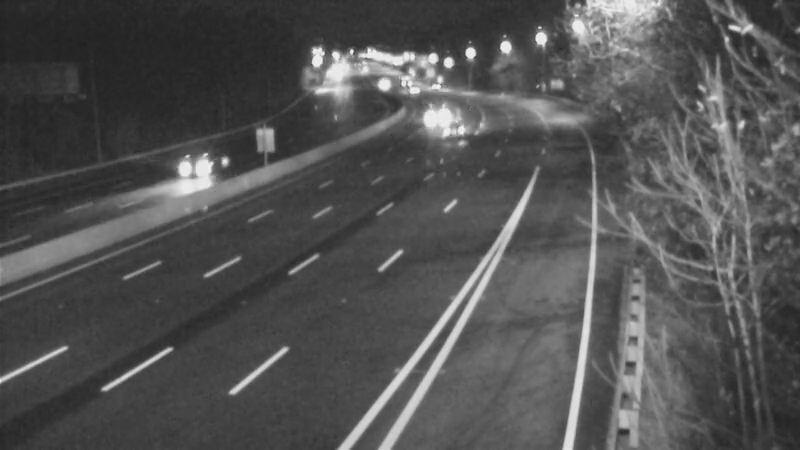vehicle: (166, 129, 246, 209), (408, 64, 458, 114), (380, 57, 430, 107), (363, 59, 413, 109), (392, 66, 442, 116), (406, 91, 456, 141), (430, 106, 480, 156)
